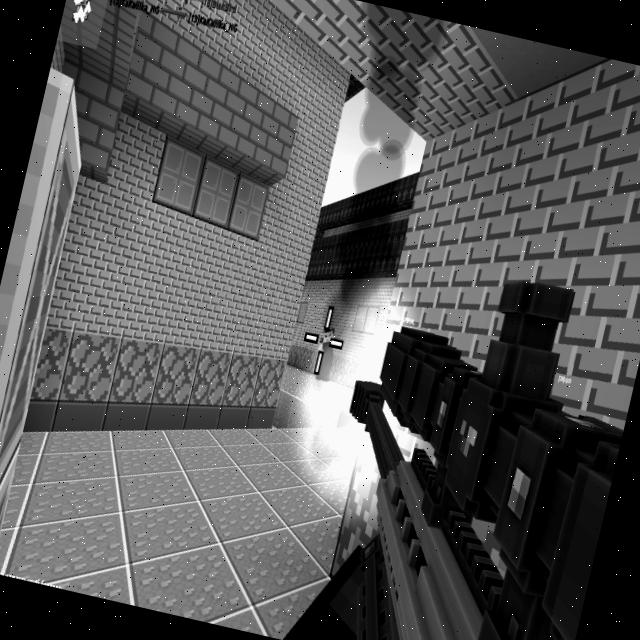Head: (322, 326, 336, 344)
Player: (310, 324, 340, 382)
